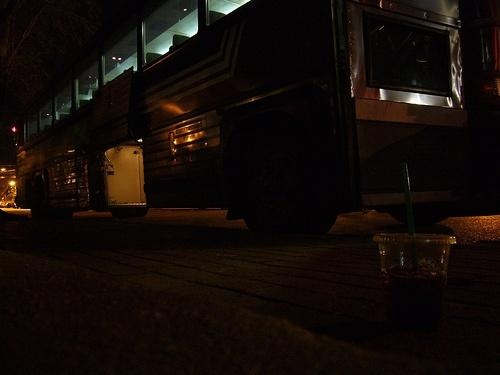bus: (15, 1, 473, 235)
